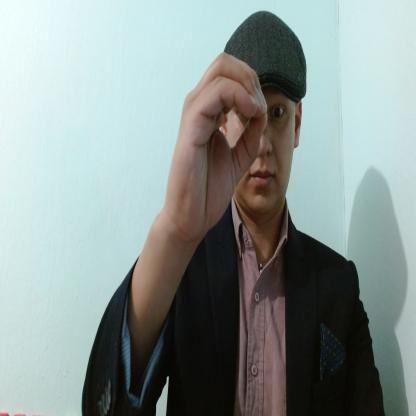O: (164, 53, 268, 236)
